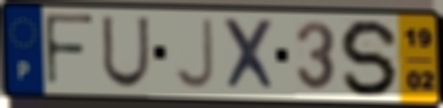3: (293, 19, 337, 94)
F: (42, 11, 97, 90)
J: (171, 17, 216, 92)
S: (338, 17, 403, 98)
U: (100, 14, 152, 91)
X: (219, 17, 281, 94)
